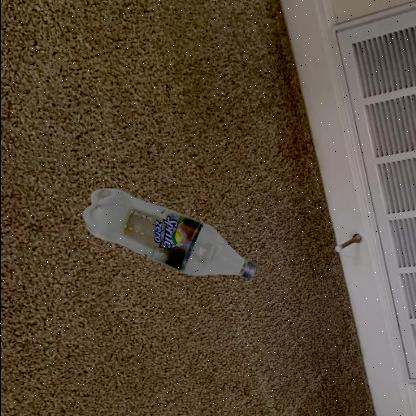Plastic Bottle: (82, 189, 256, 281)
